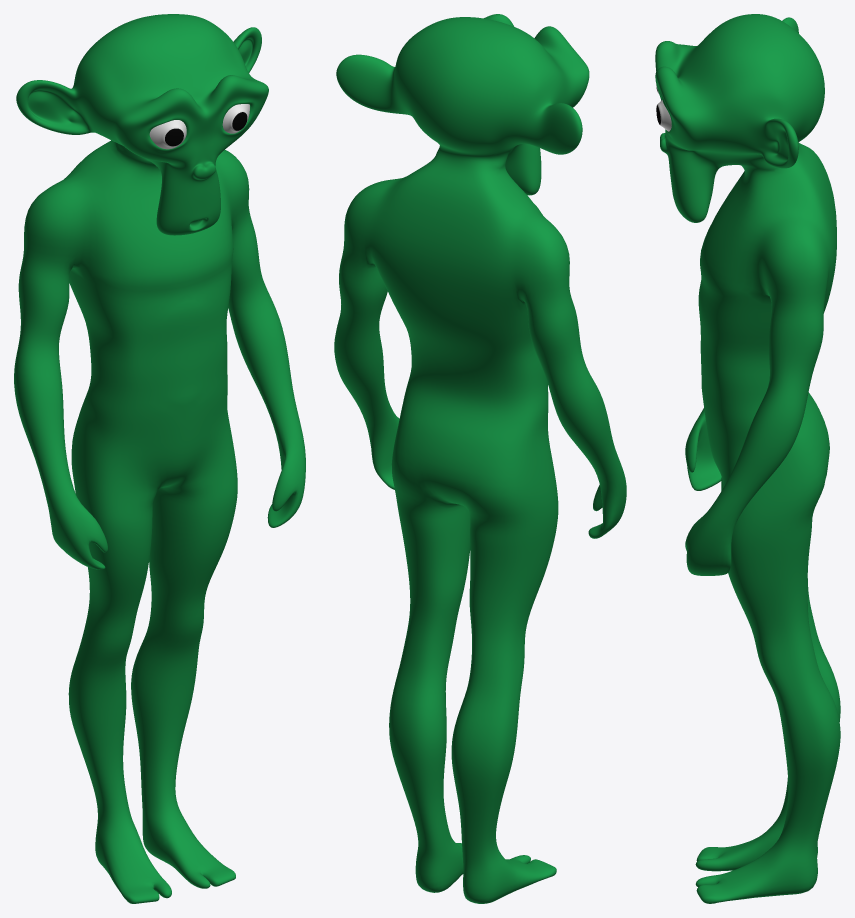
3 views of the same model, side by side, from view 1: azimuth 30°, elevation 25°; view 2: azimuth 150°, elevation 25°; view 3: azimuth 270°, elevation 25° (orthographic).
Parts seen in each view (by area): view 1: MonkeyMan; view 2: MonkeyMan; view 3: MonkeyMan.
Part boxes in pixels (x1,y1,x2,y2): MonkeyMan: (14,14,305,903); MonkeyMan: (334,14,626,903); MonkeyMan: (655,14,840,903).
Bounding box in the file's own units: 54.64 × 170 × 33.48.
